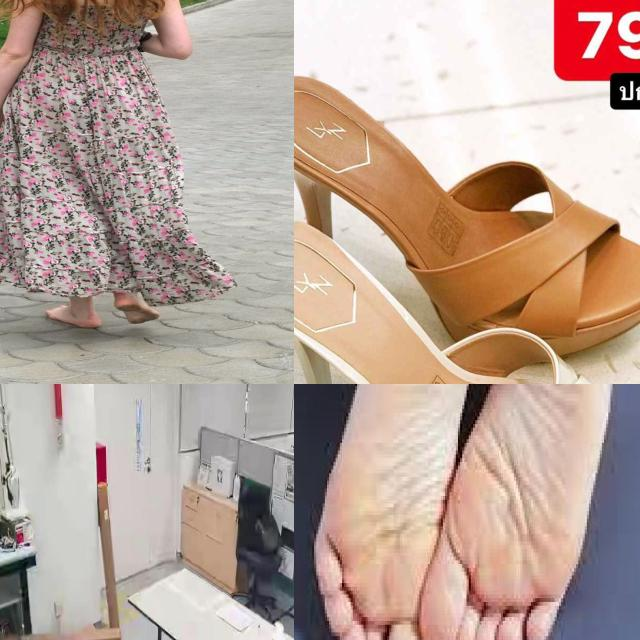Barefoots: (411, 384, 622, 640), (294, 384, 476, 640), (45, 305, 102, 328), (114, 296, 160, 324)
Sandals: (294, 42, 640, 364), (294, 206, 640, 384)
